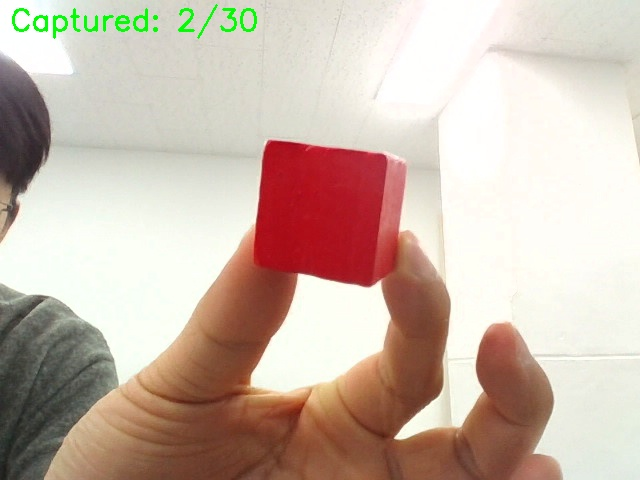Normal: (260, 134, 414, 282)
